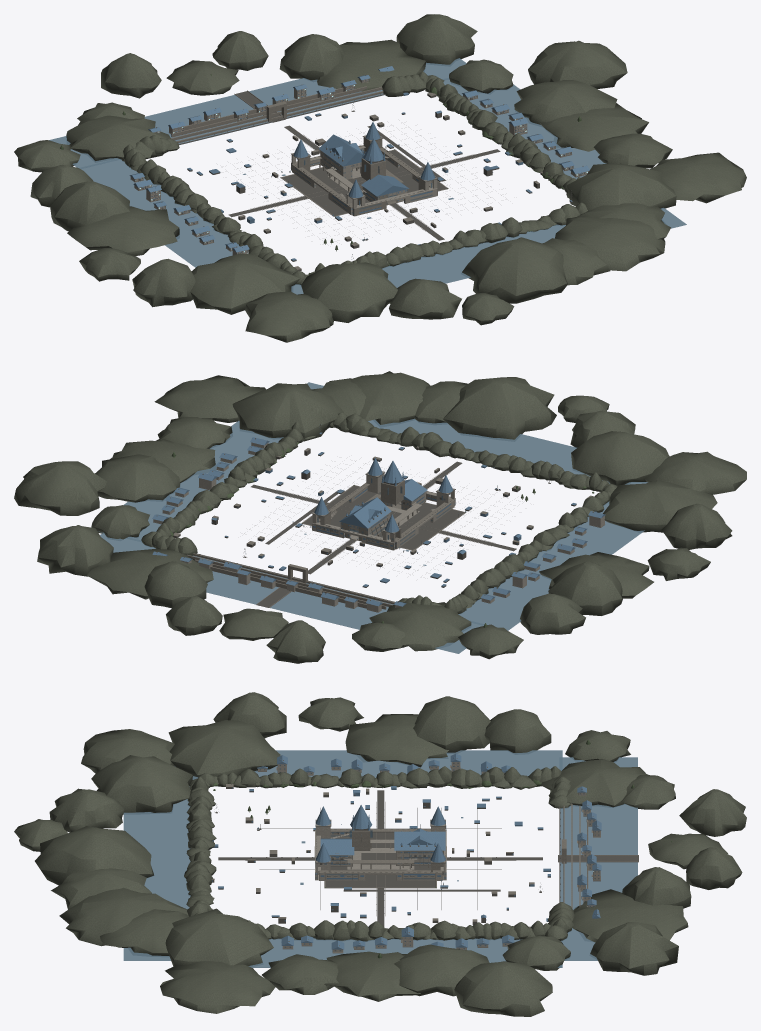
Rendered from takadai-lod0.glb.
3 renders of one model, top to bottom at view 1: azimuth 30°, elevation 25°; view 2: azimuth 150°, elevation 25°; view 3: azimuth 270°, elevation 25°, orthographic. The views are drawn at different scales.
Parts seen in each view (by area): view 1: HB_takadai_LOD0_terrain, HB_takadai_LOD0_water, HB_takadai_LOD0_accent, HB_takadai_LOD0_wall_alt, HB_takadai_LOD0_wall, HB_takadai_LOD0_road, HB_takadai_LOD0_trim, HB_takadai_LOD0_obstacle, HB_takadai_LOD0_glass; view 2: HB_takadai_LOD0_terrain, HB_takadai_LOD0_water, HB_takadai_LOD0_accent, HB_takadai_LOD0_wall_alt, HB_takadai_LOD0_wall, HB_takadai_LOD0_road, HB_takadai_LOD0_trim, HB_takadai_LOD0_obstacle; view 3: HB_takadai_LOD0_terrain, HB_takadai_LOD0_water, HB_takadai_LOD0_accent, HB_takadai_LOD0_road, HB_takadai_LOD0_wall, HB_takadai_LOD0_wall_alt, HB_takadai_LOD0_trim, HB_takadai_LOD0_obstacle, HB_takadai_LOD0_glass, HB_takadai_LOD0_natural.
Part boxes in pixels (<box>): HB_takadai_LOD0_terrain: <box>14,14,746,342</box>; HB_takadai_LOD0_water: <box>49,58,686,294</box>; HB_takadai_LOD0_accent: <box>129,66,589,260</box>; HB_takadai_LOD0_wall_alt: <box>130,66,586,269</box>; HB_takadai_LOD0_wall: <box>130,78,588,255</box>; HB_takadai_LOD0_road: <box>228,91,500,241</box>; HB_takadai_LOD0_trim: <box>135,75,588,258</box>; HB_takadai_LOD0_obstacle: <box>187,94,572,270</box>; HB_takadai_LOD0_glass: <box>142,79,585,253</box>; HB_takadai_LOD0_terrain: <box>14,371,746,663</box>; HB_takadai_LOD0_water: <box>98,382,647,653</box>; HB_takadai_LOD0_accent: <box>152,427,605,606</box>; HB_takadai_LOD0_wall_alt: <box>153,434,604,612</box>; HB_takadai_LOD0_wall: <box>153,442,604,612</box>; HB_takadai_LOD0_road: <box>243,461,550,607</box>; HB_takadai_LOD0_trim: <box>166,424,579,602</box>; HB_takadai_LOD0_obstacle: <box>173,433,576,587</box>; HB_takadai_LOD0_terrain: <box>14,692,746,1016</box>; HB_takadai_LOD0_water: <box>123,750,637,967</box>; HB_takadai_LOD0_accent: <box>212,753,601,949</box>; HB_takadai_LOD0_road: <box>215,790,638,926</box>; HB_takadai_LOD0_wall: <box>258,762,600,952</box>; HB_takadai_LOD0_wall_alt: <box>211,758,638,953</box>; HB_takadai_LOD0_trim: <box>216,762,599,950</box>; HB_takadai_LOD0_obstacle: <box>212,787,550,924</box>; HB_takadai_LOD0_glass: <box>259,762,599,951</box>; HB_takadai_LOD0_natural: <box>190,739,672,958</box>.
Bounding box in the file's own units: 675 × 56.5 × 670.
Materials: 11 (8 with a texture image).
